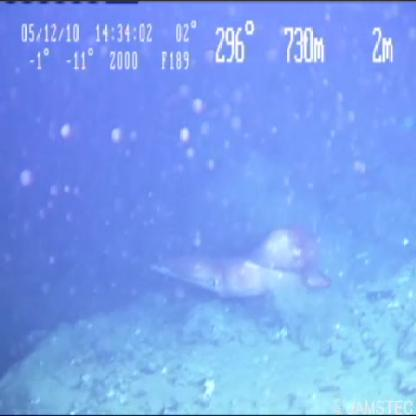Bio: (140, 219, 336, 302)
